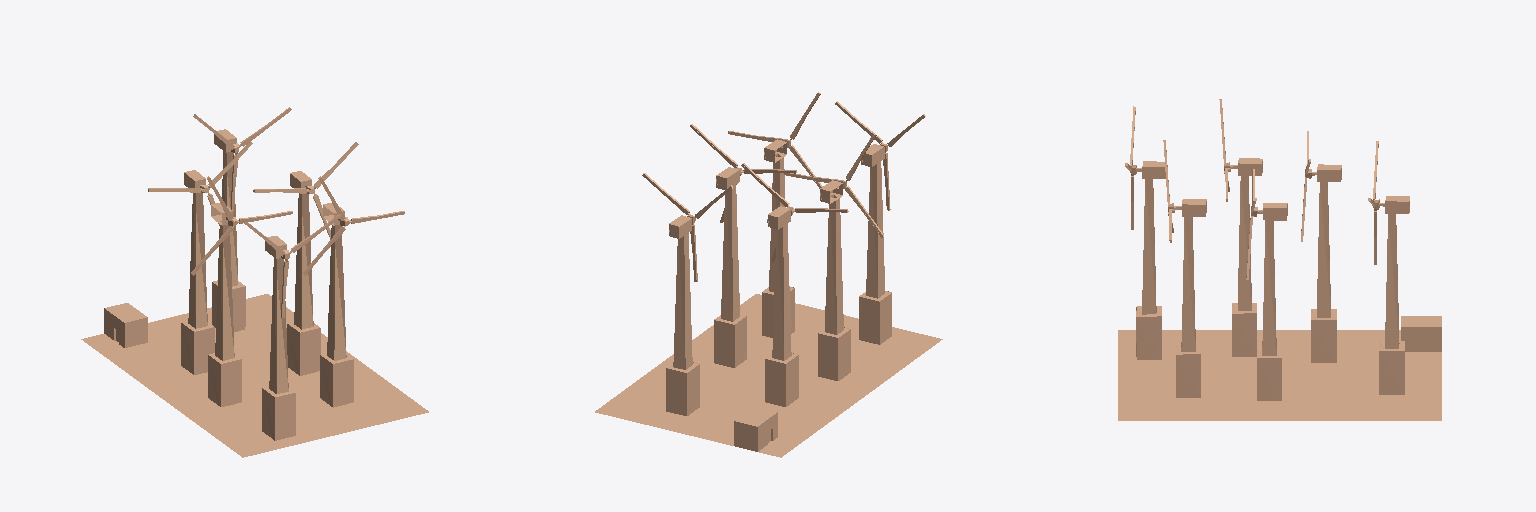
Rendered from turbines.obj.
3 renders of one model, left to right at view 1: azimuth 30°, elevation 25°; view 2: azimuth 150°, elevation 25°; view 3: azimuth 270°, elevation 25°, orthographic.
Visible parts, largest first — view 1: Box004; view 2: Box004; view 3: Box004.
Part boxes in pixels (bbox=[...]): Box004: bbox=[81, 107, 428, 457]; Box004: bbox=[595, 92, 942, 457]; Box004: bbox=[1118, 99, 1441, 420].
Size of the model in its own units: 144 by 175 by 215.